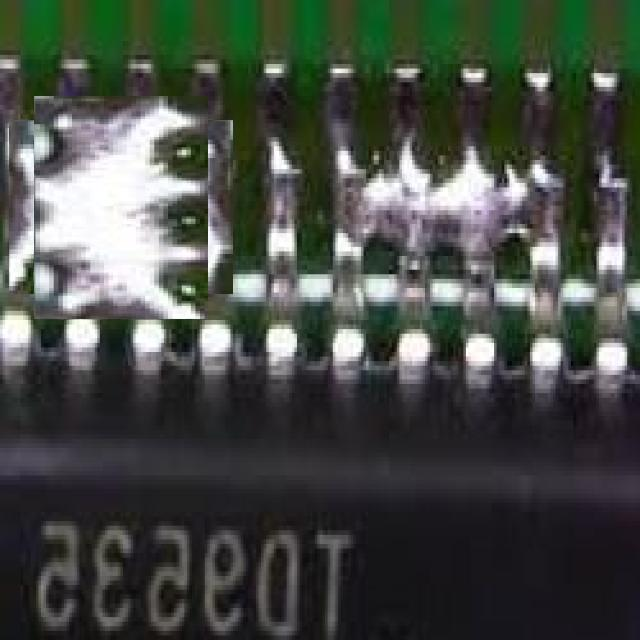Short_circuit: (21, 108, 221, 306)
